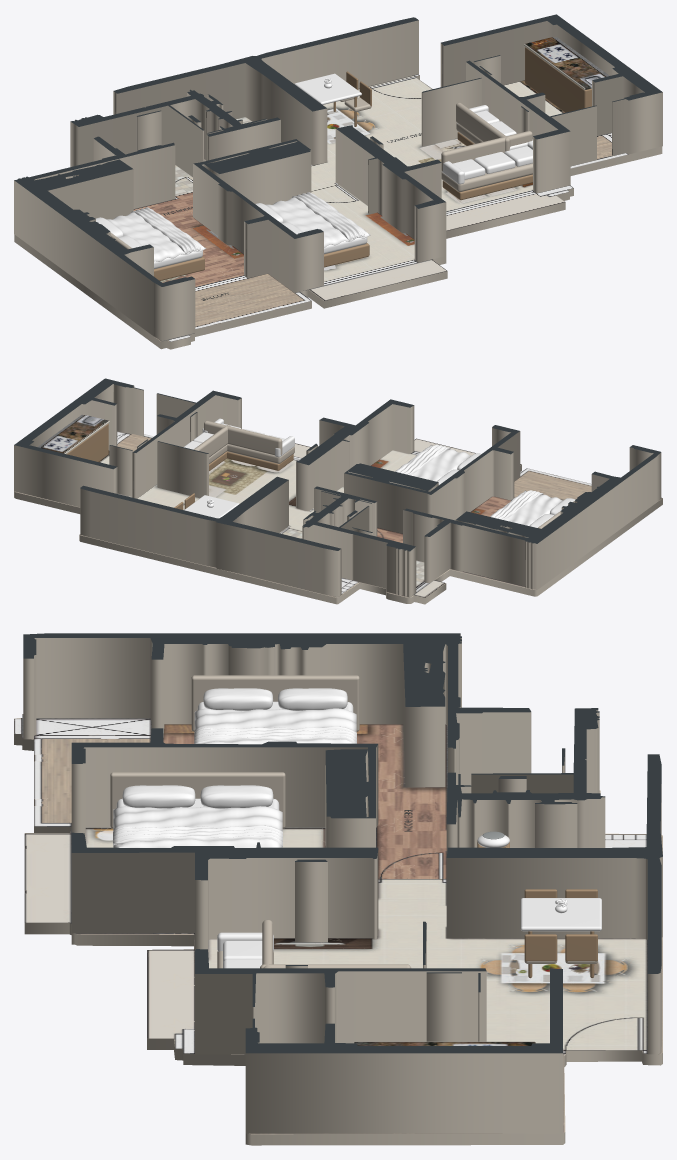
3 views of the same model, one above another, from view 1: azimuth 30°, elevation 25°; view 2: azimuth 150°, elevation 25°; view 3: azimuth 270°, elevation 25° (orthographic). The views are drawn at different scales.
Parts seen in each view (by area): view 1: Partition walls, Apartment floor, Kitchen cabinets, Stone worktop, Draped bed linen.002, Draped bed linen, Sofa back, Marble dining top, Draped bed linen.003, Upholstered sofa frame, Sofa back.001, Draped bed linen.001 (+4 smaller); view 2: Partition walls, Apartment floor, Stone worktop, Sofa back, Draped bed linen.002, Draped bed linen, Kitchen cabinets, Marble dining top, Draped bed linen.003, Draped bed linen.001, Upholstered sofa frame, Sofa back.001 (+1 smaller); view 3: Partition walls, Apartment floor, Draped bed linen.002, Draped bed linen, Upholstered headboard.001, Upholstered headboard, Marble dining top, Draped bed linen.003, Draped bed linen.001, Tailored pillow.002, Tailored pillow.003, Tailored pillow (+5 smaller).
Boxes of the visible parts, <box> form: Partition walls: <box>14,14,662,340</box>; Apartment floor: <box>14,74,662,349</box>; Kitchen cabinets: <box>525,47,591,112</box>; Stone worktop: <box>524,37,609,90</box>; Draped bed linen.002: <box>265,193,370,247</box>; Draped bed linen: <box>106,209,206,261</box>; Sofa back: <box>441,131,532,171</box>; Marble dining top: <box>294,73,361,104</box>; Draped bed linen.003: <box>291,192,364,240</box>; Upholstered sofa frame: <box>441,163,532,191</box>; Sofa back.001: <box>456,102,510,151</box>; Draped bed linen.001: <box>131,207,200,253</box>; Partition walls: <box>14,378,661,597</box>; Apartment floor: <box>14,431,662,604</box>; Stone worktop: <box>38,414,109,453</box>; Sofa back: <box>204,420,282,455</box>; Draped bed linen.002: <box>395,445,471,481</box>; Draped bed linen: <box>490,490,562,525</box>; Kitchen cabinets: <box>66,423,108,461</box>; Marble dining top: <box>184,495,238,518</box>; Draped bed linen.003: <box>397,444,450,474</box>; Draped bed linen.001: <box>491,490,543,519</box>; Upholstered sofa frame: <box>227,444,294,463</box>; Sofa back.001: <box>194,425,229,457</box>; Partition walls: <box>23,633,662,1133</box>; Apartment floor: <box>14,714,662,1145</box>; Draped bed linen.002: <box>113,806,282,847</box>; Draped bed linen: <box>194,708,356,744</box>; Upholstered headboard.001: <box>110,772,285,828</box>; Upholstered headboard: <box>191,675,359,731</box>; Marble dining top: <box>520,898,601,931</box>; Draped bed linen.003: <box>113,825,282,846</box>; Draped bed linen.001: <box>194,726,356,743</box>; Tailored pillow.002: <box>122,785,195,808</box>; Tailored pillow.003: <box>200,785,273,808</box>; Tailored pillow: <box>203,688,273,710</box>.
Bounding box in the file's own units: 12.78 × 1.3 × 8.34.
Materials: 10 (1 with a texture image).
